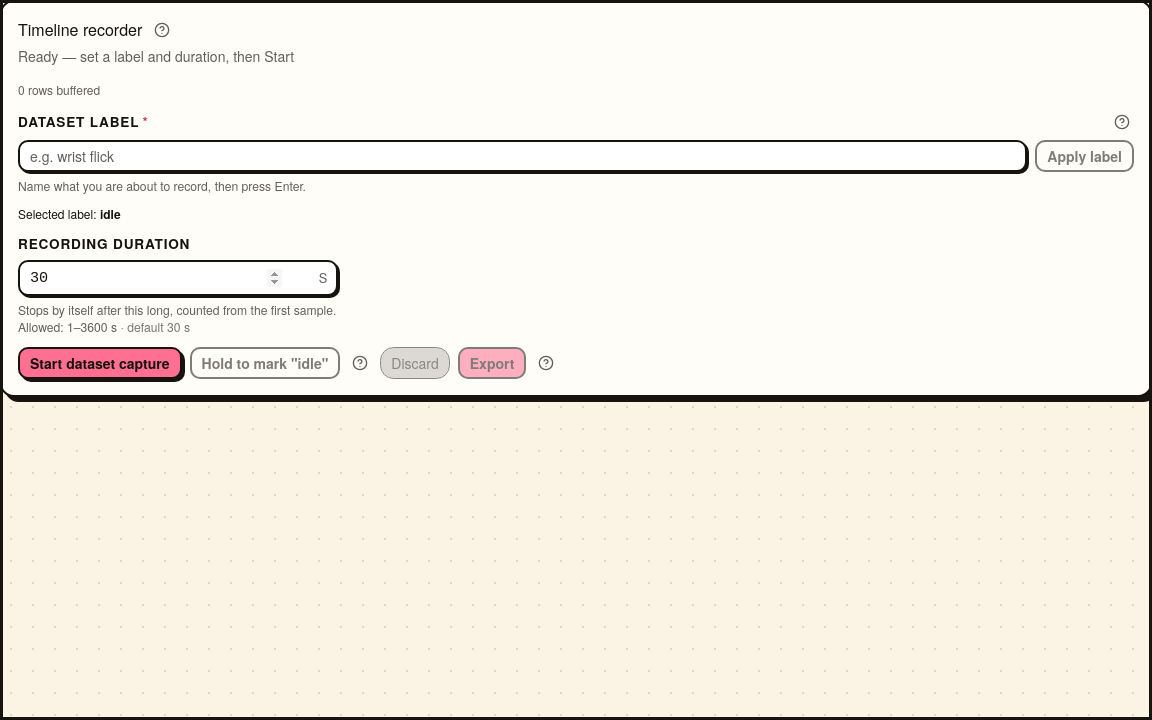
Test case: DatasetCaptureCard › tells the user, as they type, what the label will be saved as
expect the text "Name what you are about to record, then press Enter." is shown: met, box [18,177,306,194]
Step 1. Type "Wrist Flick" into the field labelled "Dataset label" → (523, 156), box [18,140,1027,172]
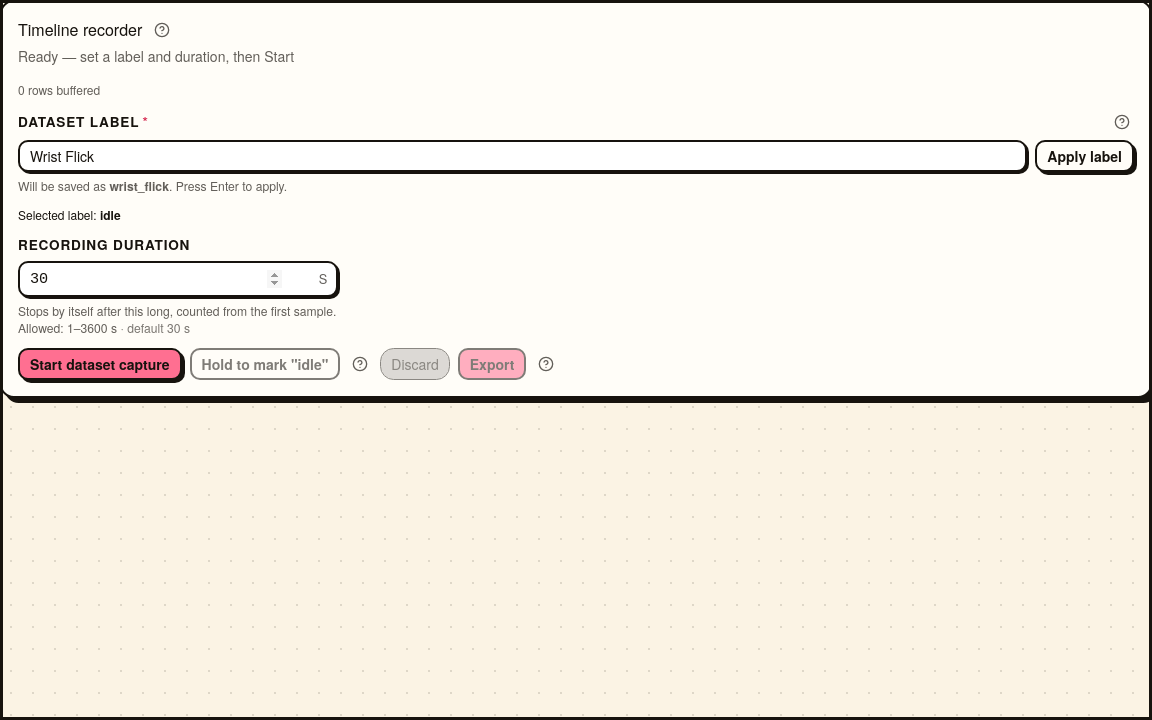
expect the text "wrist_flick" is shown: met, box [109,177,169,195]
